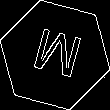M_S: (26, 25, 84, 85)
